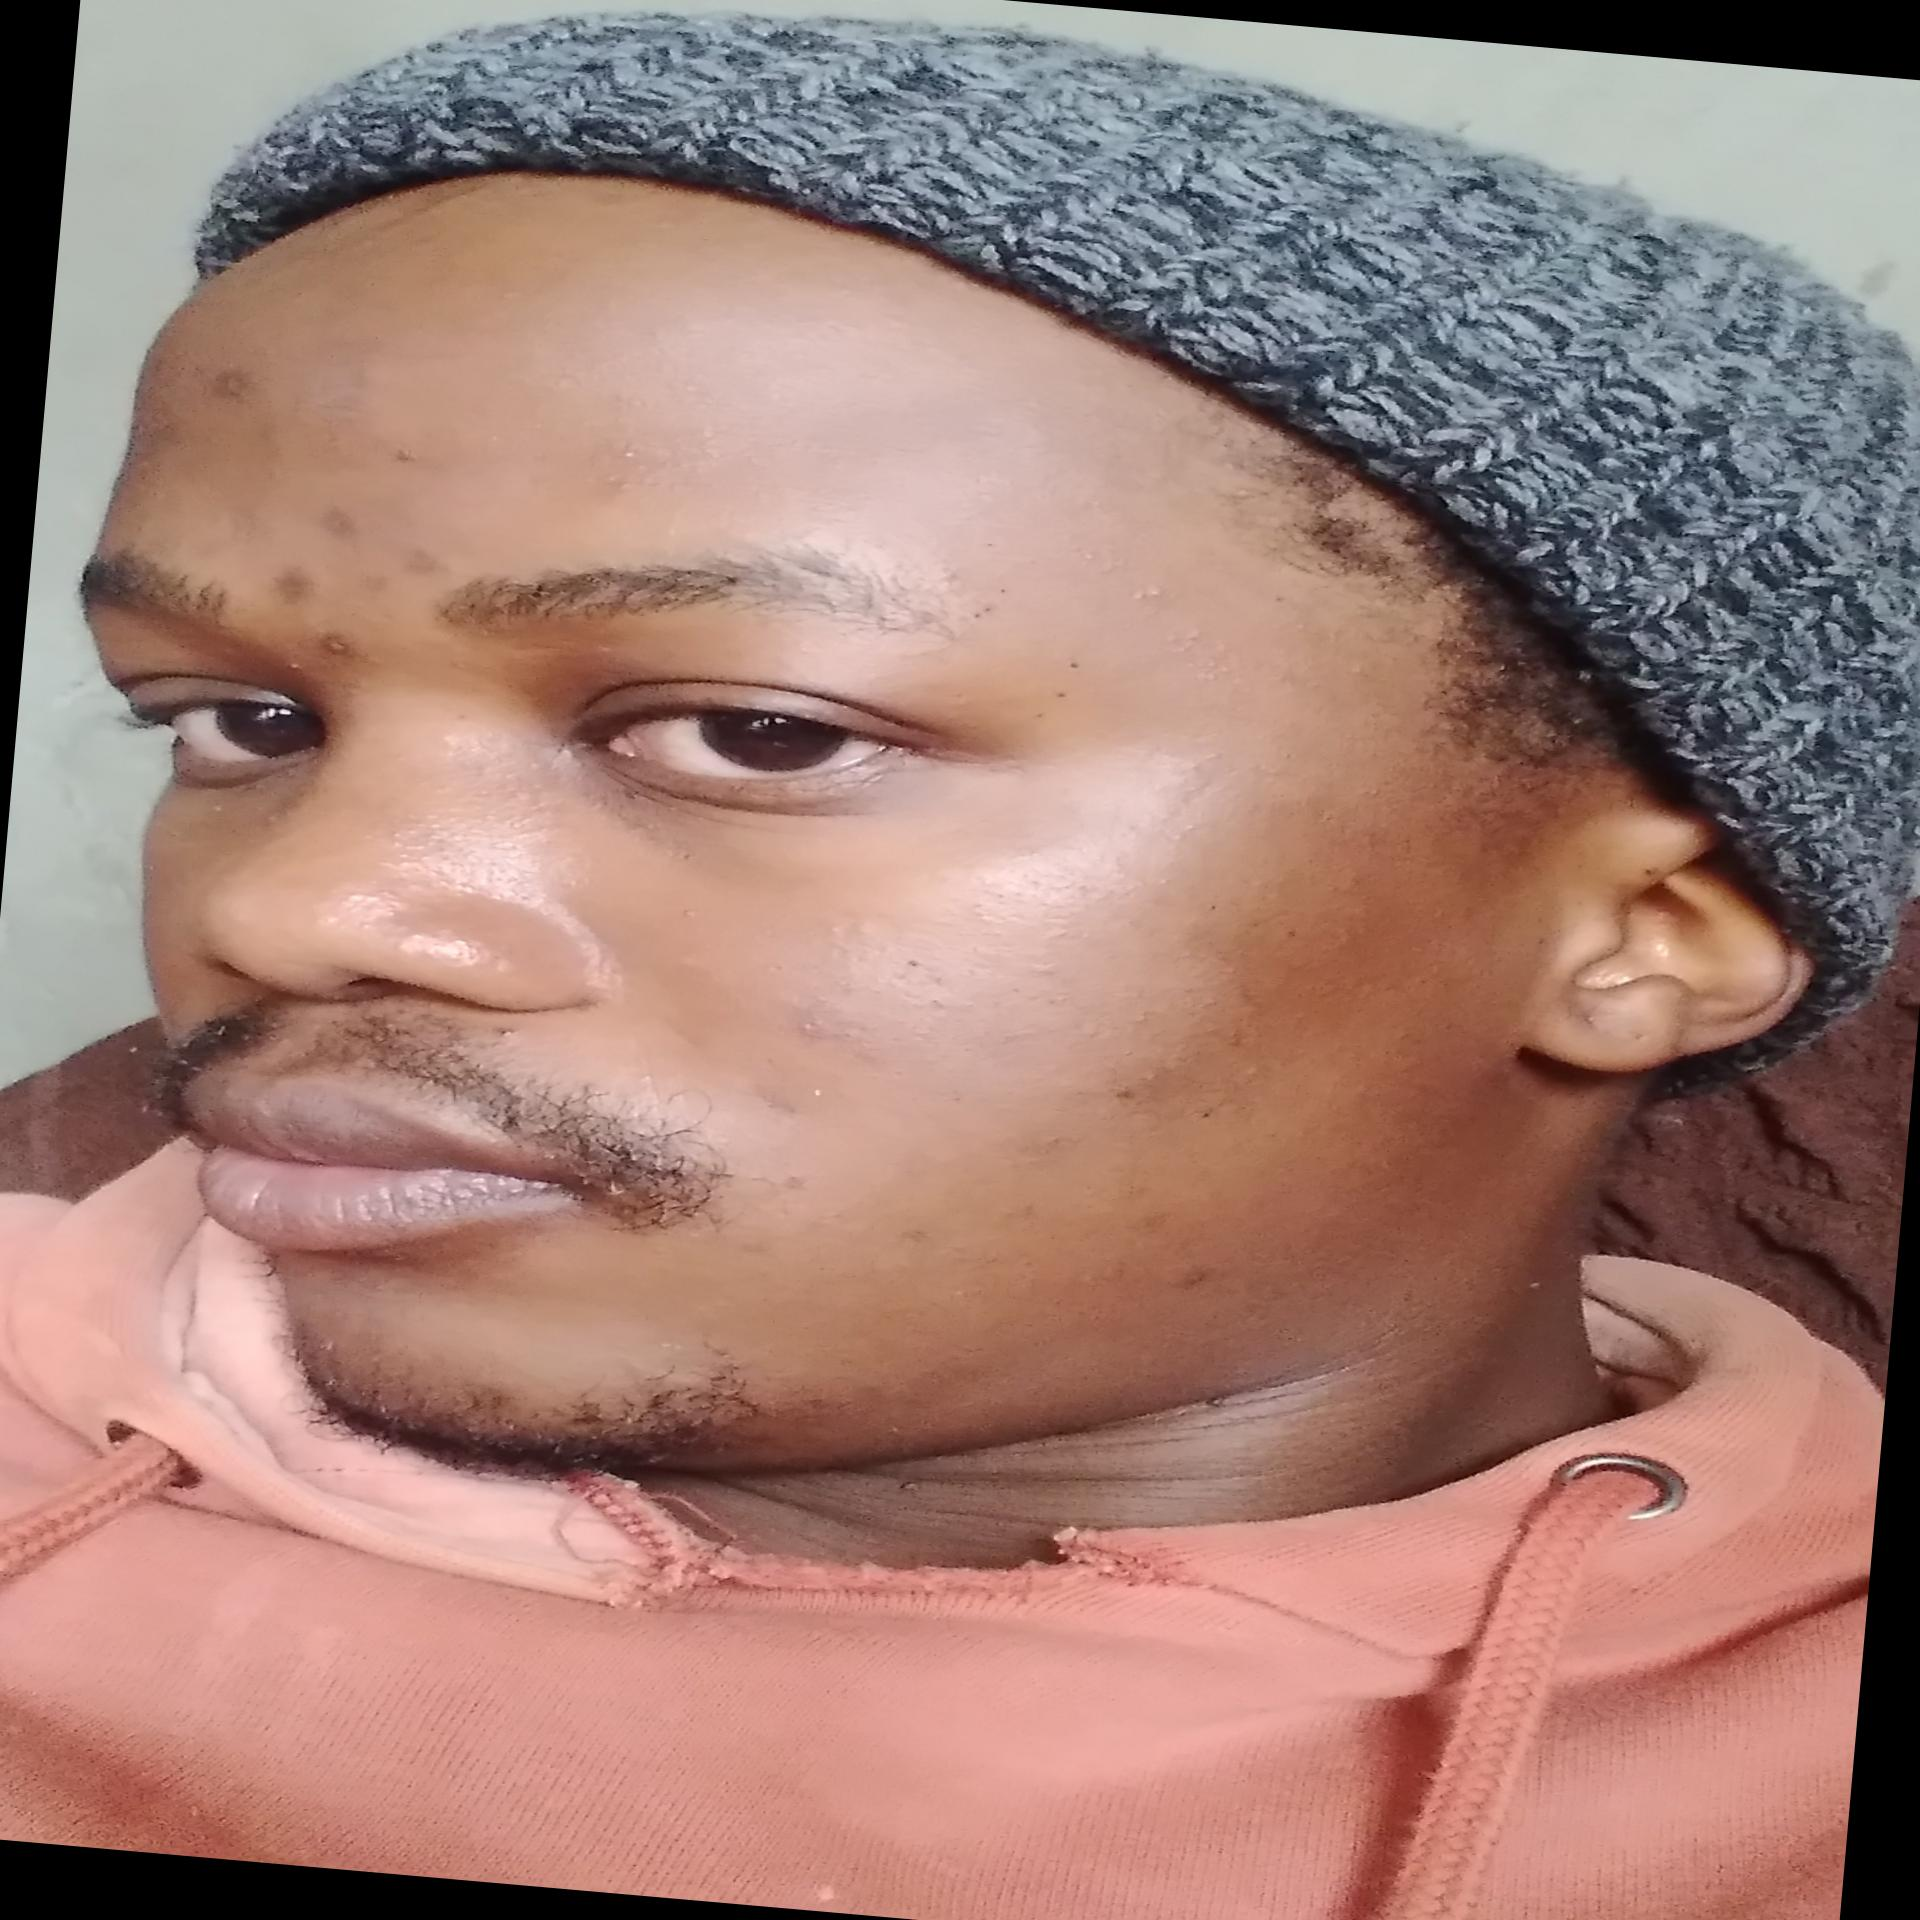Acne: (346, 540, 454, 605), (258, 554, 331, 614), (1159, 1257, 1231, 1308), (204, 360, 278, 406), (786, 1004, 840, 1050), (302, 628, 366, 665), (309, 503, 369, 542), (142, 346, 197, 387)
Dark Circles: (542, 737, 1023, 911)
